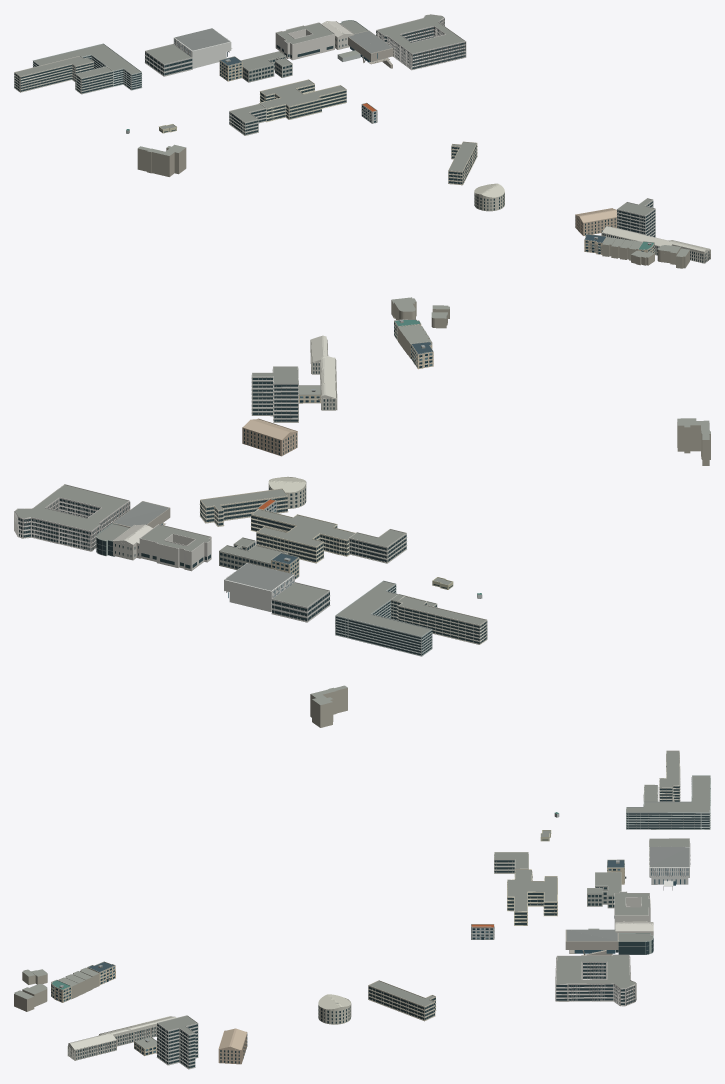
File: zone_2_1-medium.glb
3 renders of one model, top to bottom at view 1: azimuth 30°, elevation 25°; view 2: azimuth 150°, elevation 25°; view 3: azimuth 270°, elevation 25°, orthographic. The views are drawn at different scales.
Visible parts, largest first — view 1: web_building_1806438, web_building_135265606, web_building_188010216, web_building_2096073, web_building_135265380, web_building_134410449, web_building_136637847, web_building_138223978, web_building_174133709, web_building_134410444, web_building_135098352, web_building_1424900701 (+7 smaller); view 2: web_building_1806438, web_building_188010216, web_building_135265606, web_building_2096073, web_building_138223978, web_building_135265380, web_building_134410449, web_building_135311810, web_building_134410444, web_building_135156315, web_building_135265609, web_building_135098352 (+7 smaller); view 3: web_building_1806438, web_building_188010216, web_building_135265606, web_building_138223978, web_building_135098352, web_building_135311810, web_building_134410449, web_building_1424900701, web_building_136637847, web_building_2096073, web_building_174133709, web_building_135265380 (+4 smaller).
Boxes of the visible parts, x1,y1,x2,y2 form: web_building_1806438: (376,14,466,70); web_building_135265606: (259,79,346,122); web_building_188010216: (32,43,142,90); web_building_2096073: (275,22,334,60); web_building_135265380: (14,56,93,92); web_building_134410449: (173,28,232,68); web_building_136637847: (137,144,186,176); web_building_138223978: (617,198,655,237); web_building_174133709: (241,51,292,82); web_building_134410444: (145,43,192,76); web_building_135098352: (601,226,710,263); web_building_1424900701: (348,30,393,68); web_building_1806438: (14,484,130,551); web_building_188010216: (335,580,432,656); web_building_135265606: (250,509,355,563); web_building_2096073: (139,524,211,571); web_building_138223978: (251,366,298,422); web_building_135265380: (397,596,487,644); web_building_134410449: (224,563,294,612); web_building_135311810: (199,488,288,526); web_building_134410444: (271,582,330,622); web_building_135156315: (242,418,297,456); web_building_135265609: (349,529,407,563); web_building_135098352: (310,335,337,410); web_building_1806438: (555,954,636,1006); web_building_188010216: (626,775,710,829); web_building_135265606: (507,869,557,925); web_building_138223978: (156,1015,198,1069); web_building_135098352: (67,1016,176,1060); web_building_135311810: (368,980,436,1021); web_building_134410449: (649,847,689,890); web_building_1424900701: (565,929,618,955); web_building_136637847: (310,685,347,727); web_building_2096073: (614,891,650,929); web_building_174133709: (587,872,621,908); web_building_135265380: (659,750,680,801).
Size of the model in its own units: 498 by 151 by 620.
